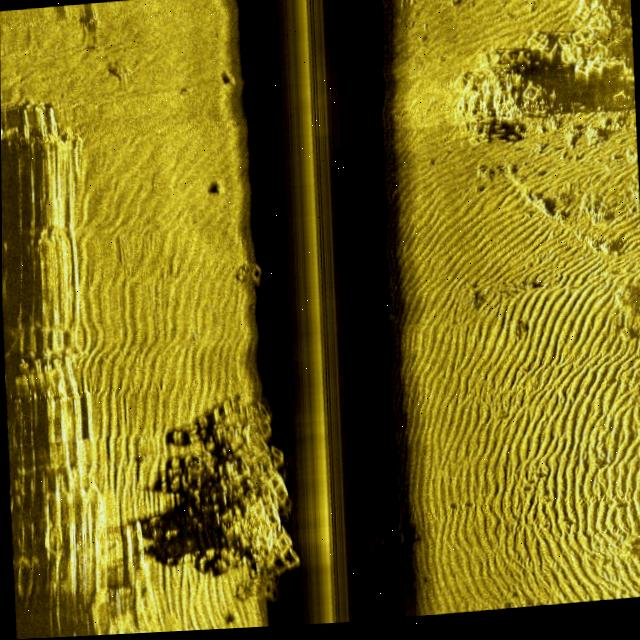artificial reef: (188, 384, 311, 611), (444, 8, 629, 151), (218, 254, 267, 296)
